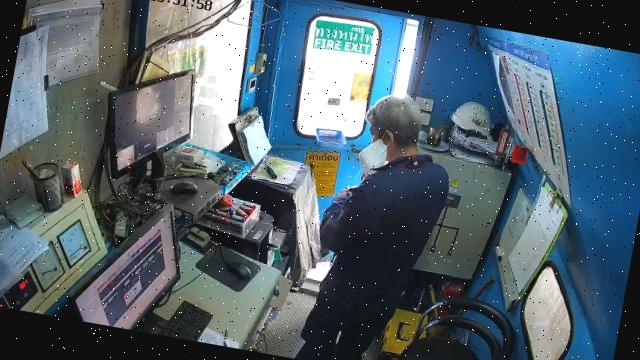Head: (366, 97, 422, 160)
People: (301, 97, 449, 359)
